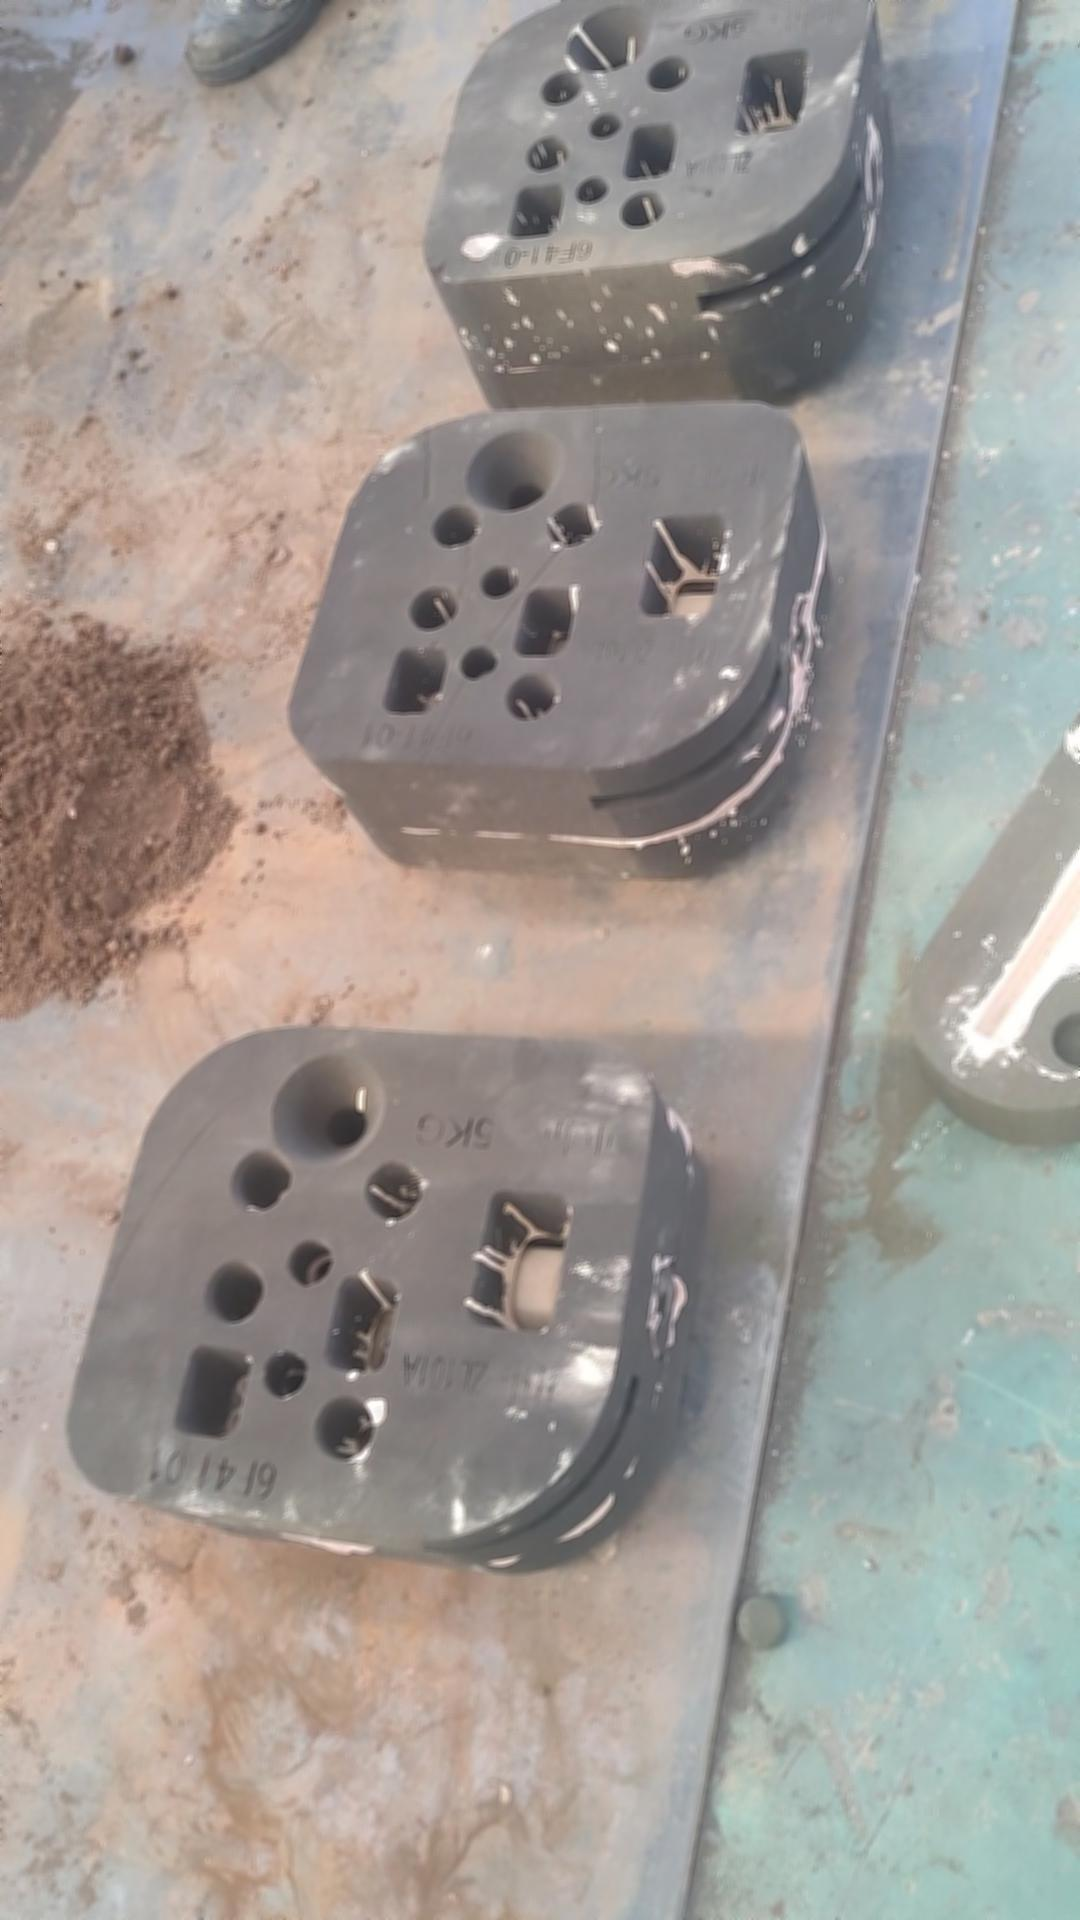pouring hole: (272, 1054, 381, 1163), (467, 429, 564, 516), (567, 5, 651, 74)
